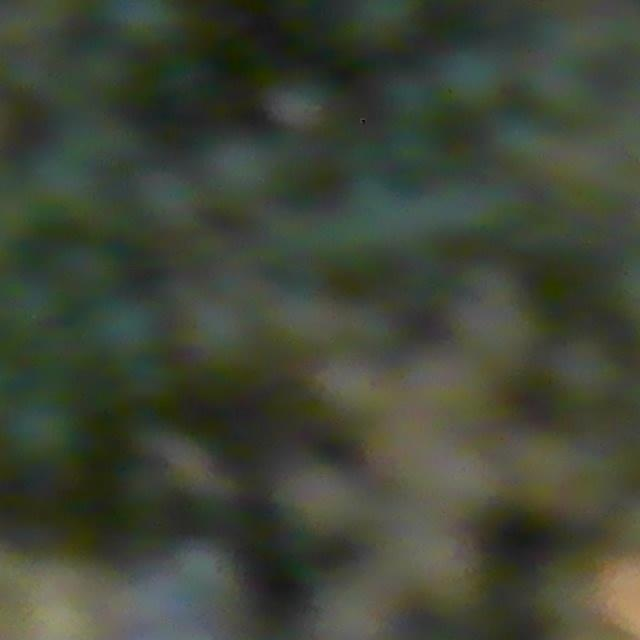SeaGrape: (200, 128, 281, 205), (4, 394, 80, 468), (87, 292, 164, 363), (438, 41, 509, 111), (132, 166, 200, 233), (101, 0, 181, 49), (345, 0, 419, 51)
